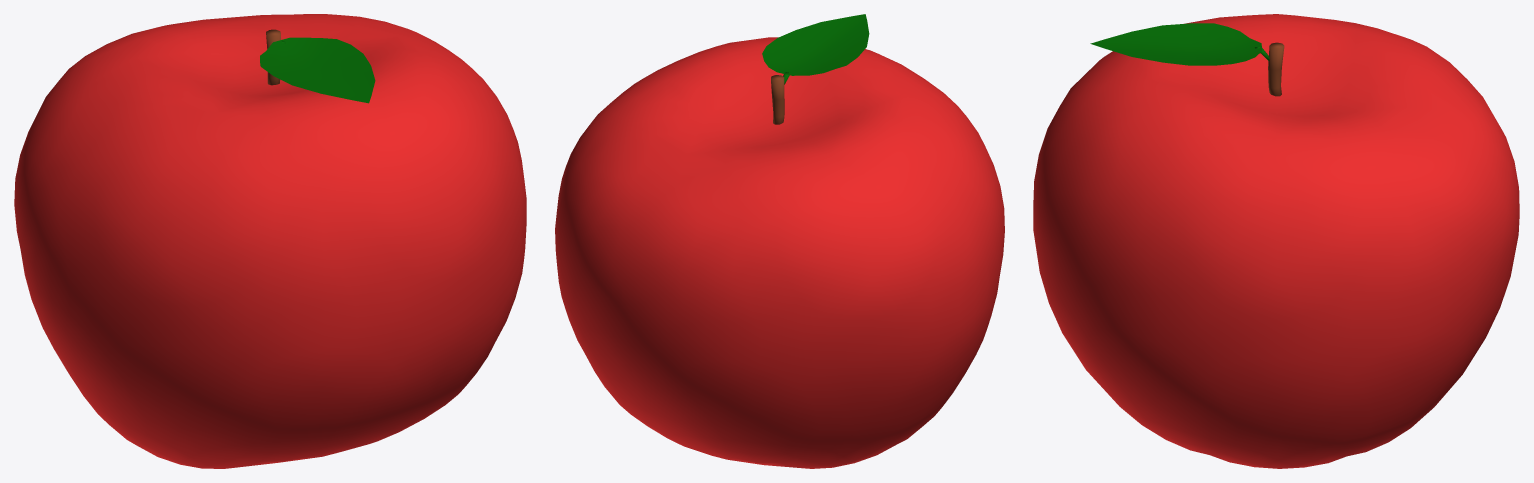
File: Apple.fbx
3 views of the same model, side by side, from view 1: azimuth 30°, elevation 25°; view 2: azimuth 150°, elevation 25°; view 3: azimuth 270°, elevation 25° (orthographic). The views are drawn at different scales.
Parts seen in each view (by area): view 1: Icosphere, Plane; view 2: Icosphere, Plane, Cylinder; view 3: Icosphere, Plane, Cylinder.
Part boxes in pixels (x1,y1,x2,y2): Icosphere: (14,14,526,468); Plane: (260,37,375,103); Icosphere: (555,37,1004,468); Plane: (762,14,869,75); Cylinder: (771,75,784,124); Icosphere: (1033,14,1519,468); Plane: (1090,23,1262,65); Cylinder: (1268,42,1284,96).
Size of the model in its own units: 43.1 by 36.47 by 42.77.
